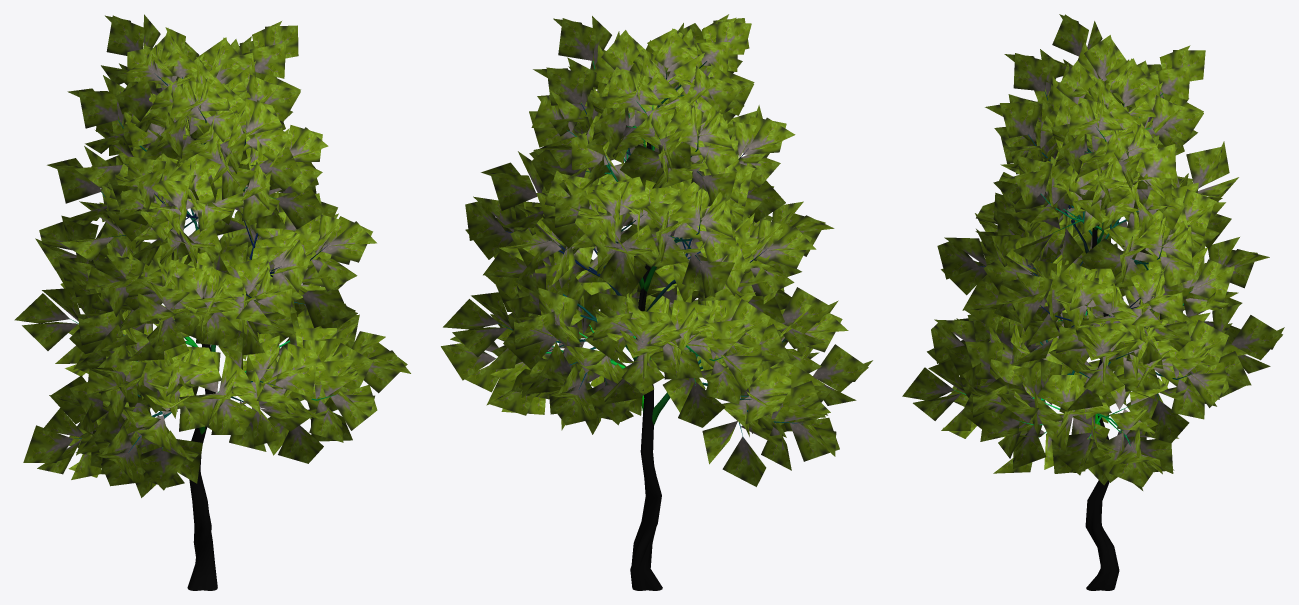
Rendered from ElmTree01.fbx.
The picture shows the model from 3 angles, left to right: view 1: azimuth 30°, elevation 25°; view 2: azimuth 150°, elevation 25°; view 3: azimuth 270°, elevation 25°; orthographic projection. The views are drawn at different scales.
Visible parts, largest first — view 1: Tree_1, Tree_0; view 2: Tree_1, Tree_0; view 3: Tree_1, Tree_0.
Boxes of the visible parts, x1,y1,x2,y2 form: Tree_1: (14, 14, 410, 497); Tree_0: (67, 74, 334, 590); Tree_1: (441, 14, 872, 486); Tree_0: (496, 61, 802, 590); Tree_1: (902, 14, 1284, 490); Tree_0: (952, 79, 1192, 590).
Bounding box in the file's own units: 63.33 × 95.95 × 61.68.
